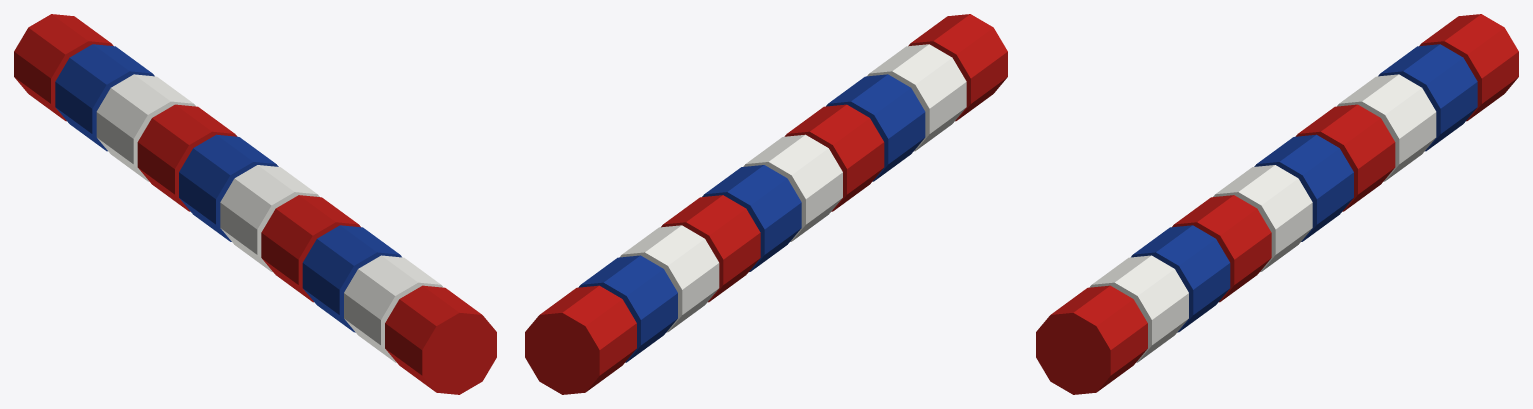
The model's file is sport.pitch.lane_rope.glb.
3 renders of one model, left to right at view 1: azimuth 30°, elevation 25°; view 2: azimuth 150°, elevation 25°; view 3: azimuth 330°, elevation 25°, orthographic.
Visible parts, largest first — view 1: main__hazard_red, main__plastic_blue, main__paint_white; view 2: main__hazard_red, main__paint_white, main__plastic_blue; view 3: main__hazard_red, main__plastic_blue, main__paint_white.
Boxes of the visible parts, x1=… form: main__hazard_red: x1=14, y1=14, x2=496, y2=394; main__plastic_blue: x1=55, y1=44, x2=401, y2=332; main__paint_white: x1=96, y1=74, x2=443, y2=362; main__hazard_red: x1=525, y1=14, x2=1007, y2=394; main__paint_white: x1=620, y1=44, x2=966, y2=332; main__plastic_blue: x1=578, y1=74, x2=925, y2=362; main__hazard_red: x1=1036, y1=14, x2=1518, y2=394; main__plastic_blue: x1=1131, y1=44, x2=1477, y2=332; main__paint_white: x1=1089, y1=74, x2=1436, y2=362.
Size of the model in its own units: 0.1046 by 0.11 by 0.99.
